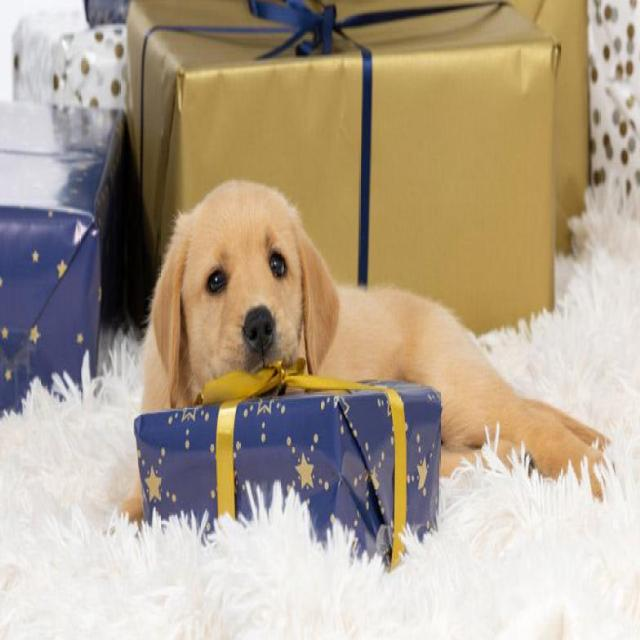Dog: (148, 172, 344, 414)
